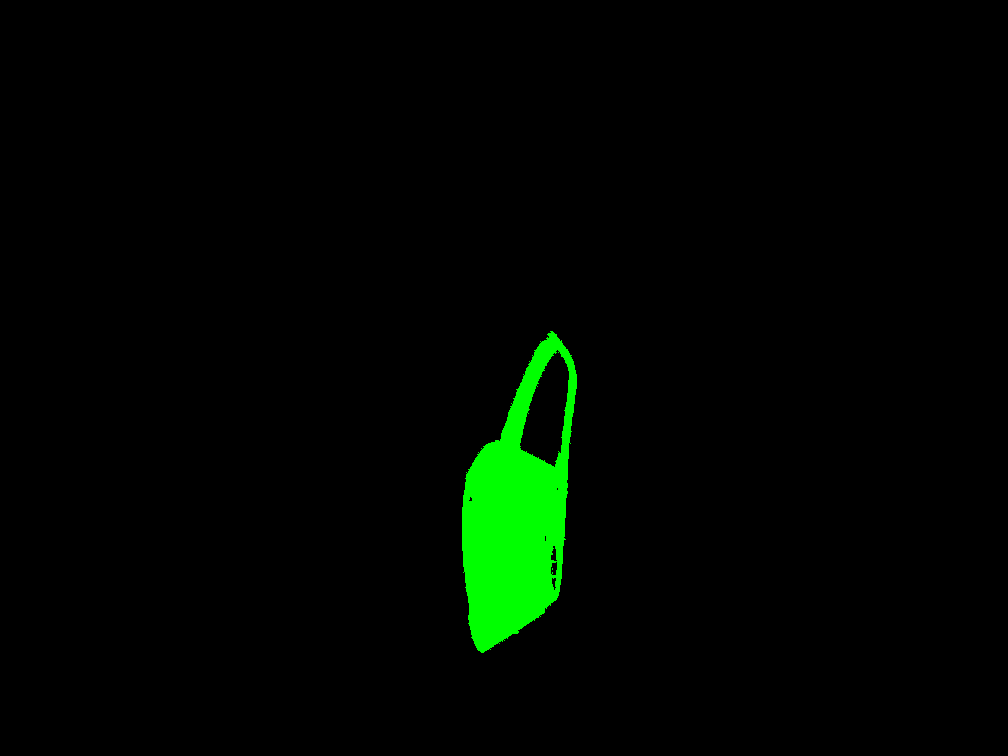car_door: (462, 331, 576, 652)
